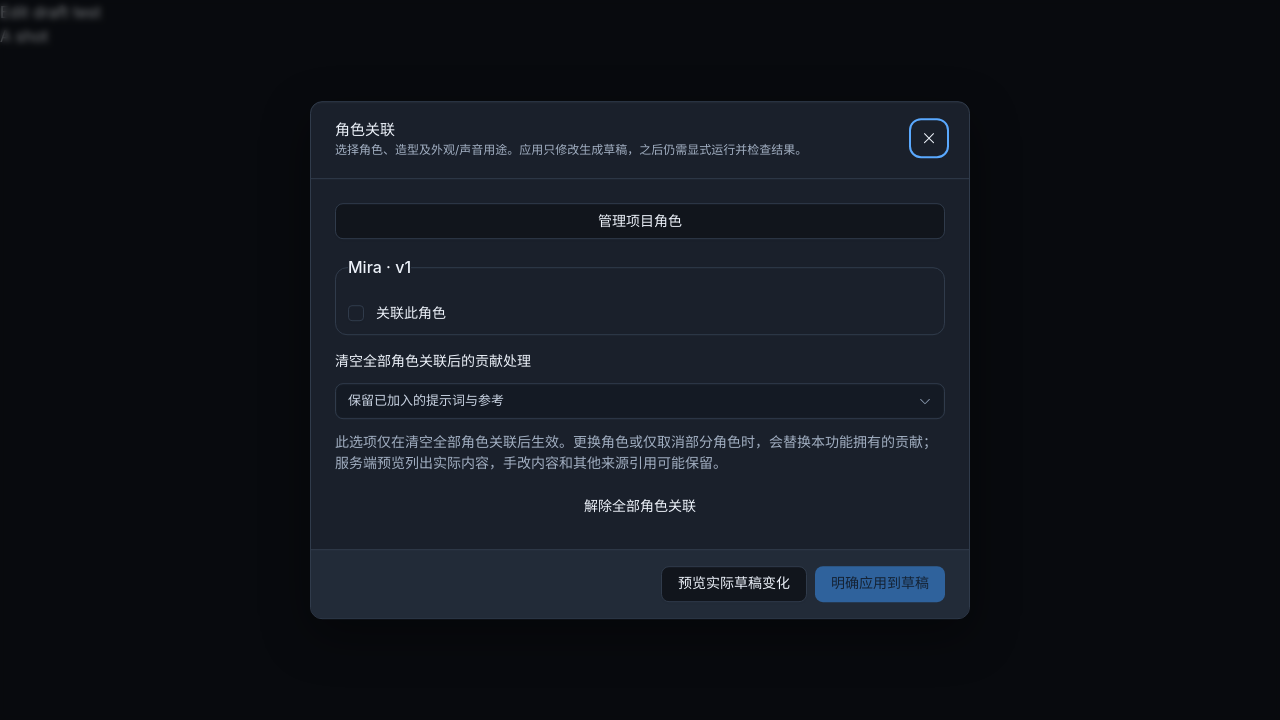
project characters › keeps selections after apply conflicts and requires another preview
Step 1. Click the checkbox named "关联此角色" → (356, 313), box 348,305 -> 364,321
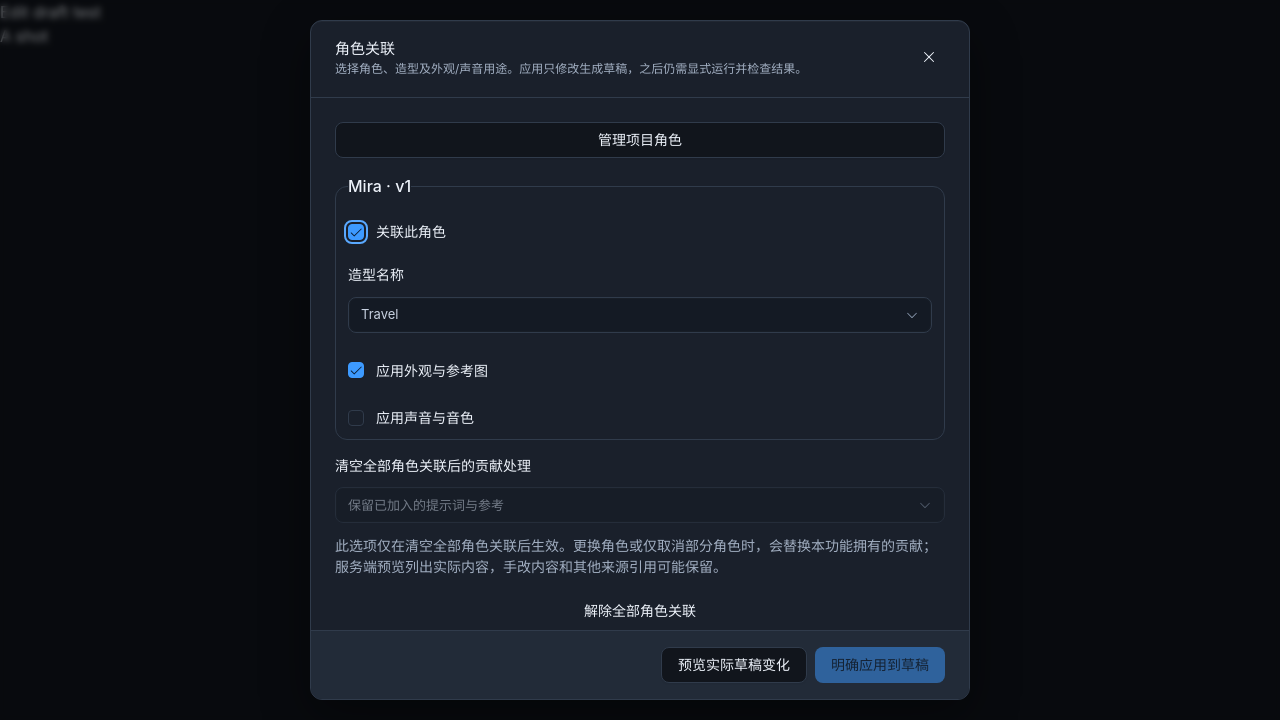
Step 2. Click the button "预览实际草稿变化" → (734, 665), box 661,647 -> 807,683
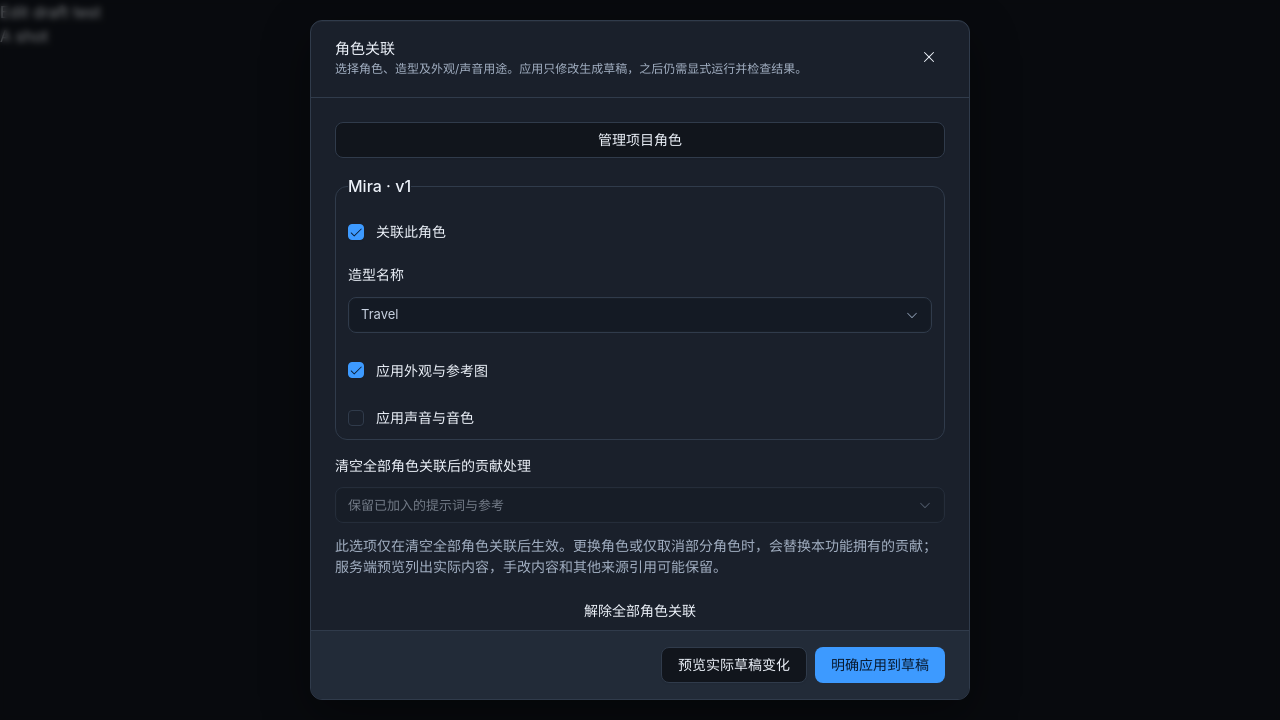
Step 3. Click the button "明确应用到草稿" → (880, 665), box 815,647 -> 945,683
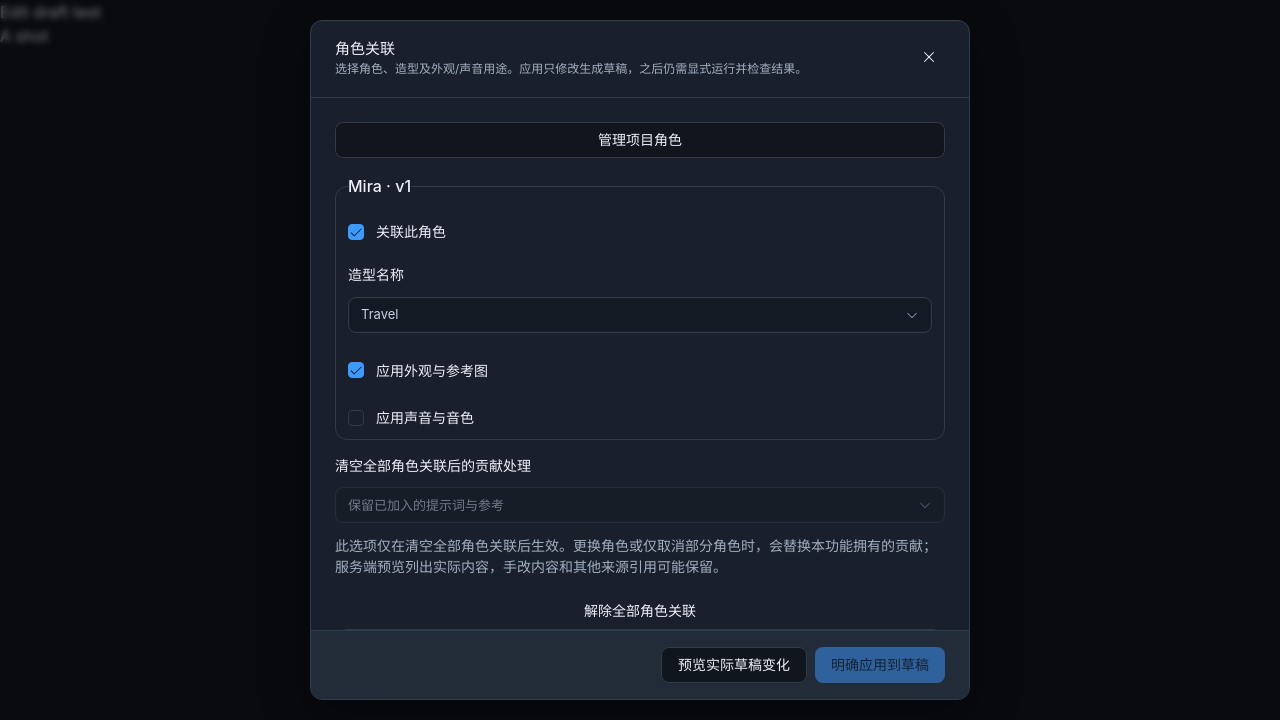
Check: the text with test id "current-prompt" reads "A shot", box 0,26 -> 48,46
Check: the checkbox named "关联此角色" next to "关联此角色" is checked, box 348,224 -> 364,240
Check: the button "明确应用到草稿" is disabled, box 815,647 -> 945,683
